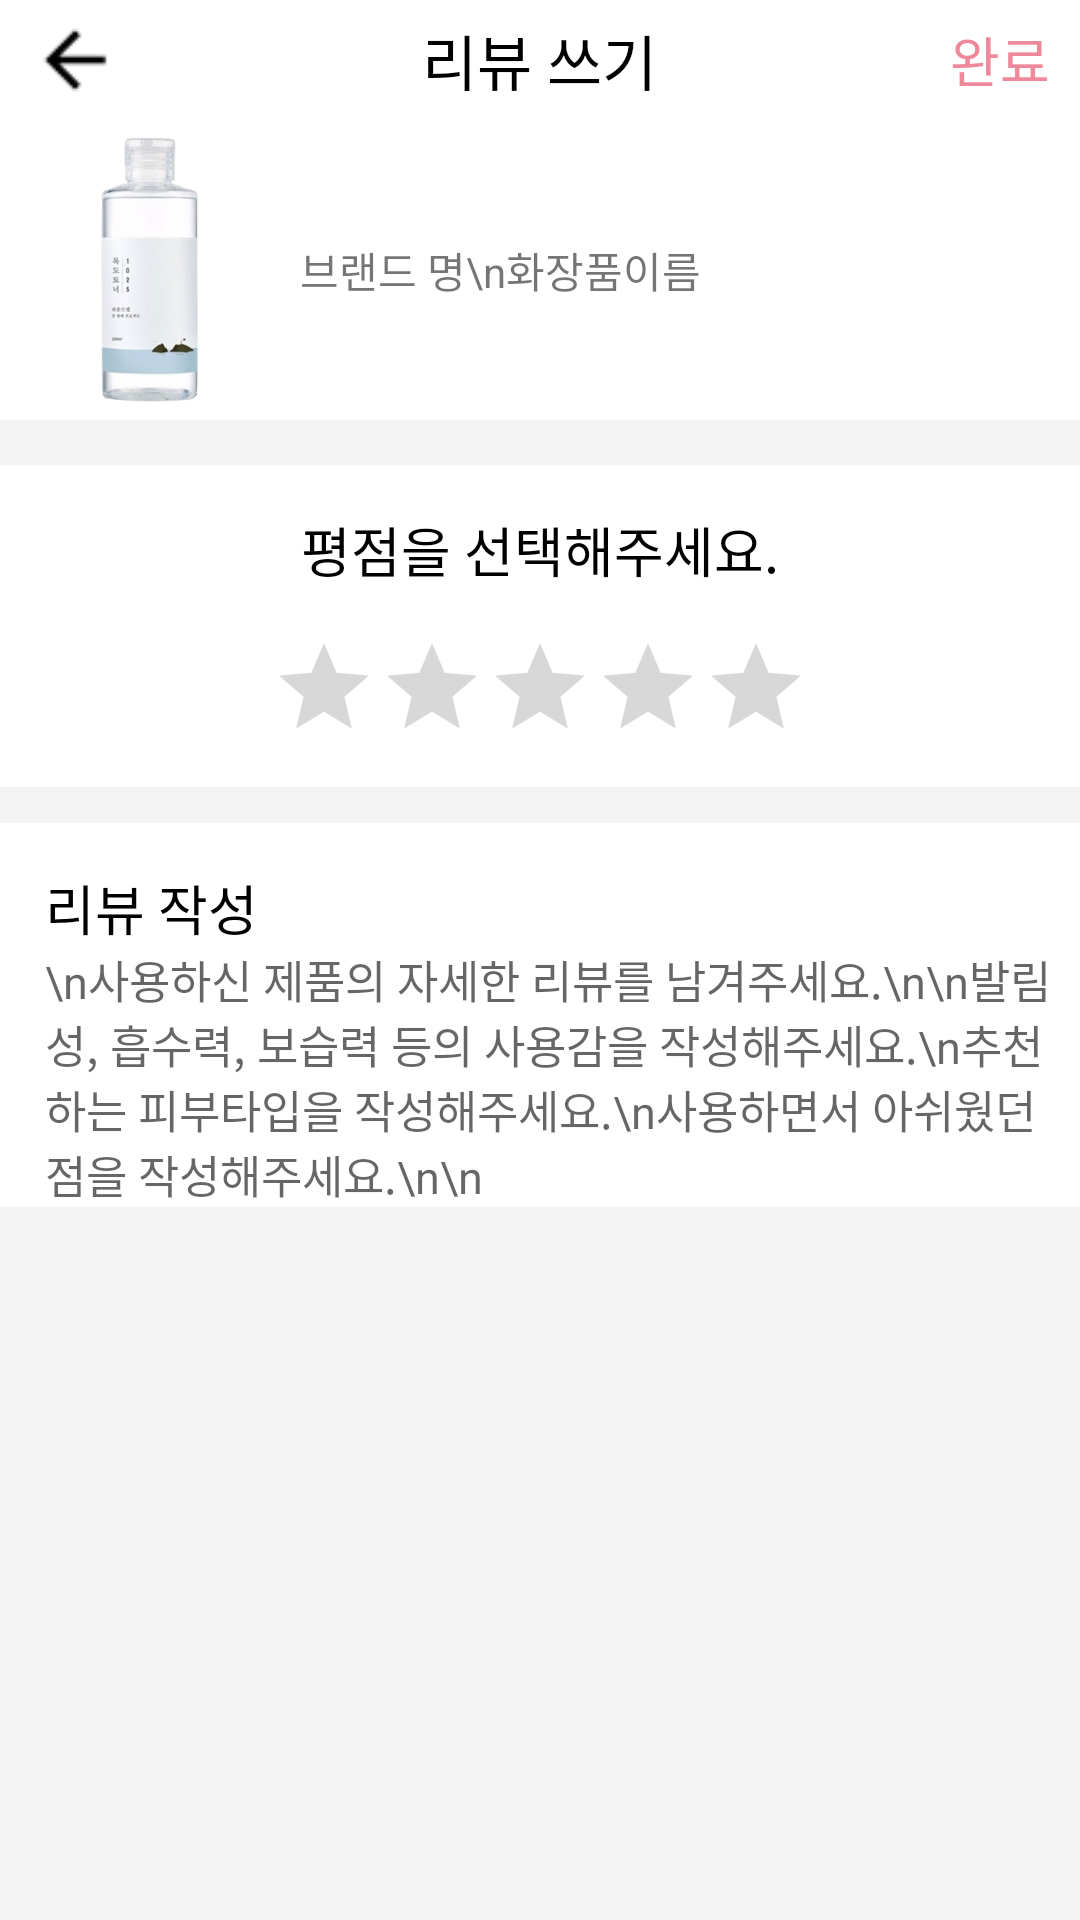

Locate icon controls on the screen. Image size 1080 x 1920, boxes as {"x1": x1, "y1": y1, "x2": x2, "y2": y2}.
arrow back: {"x1": 44, "y1": 29, "x2": 107, "y2": 91}
cosmetic: {"x1": 101, "y1": 138, "x2": 198, "y2": 402}
